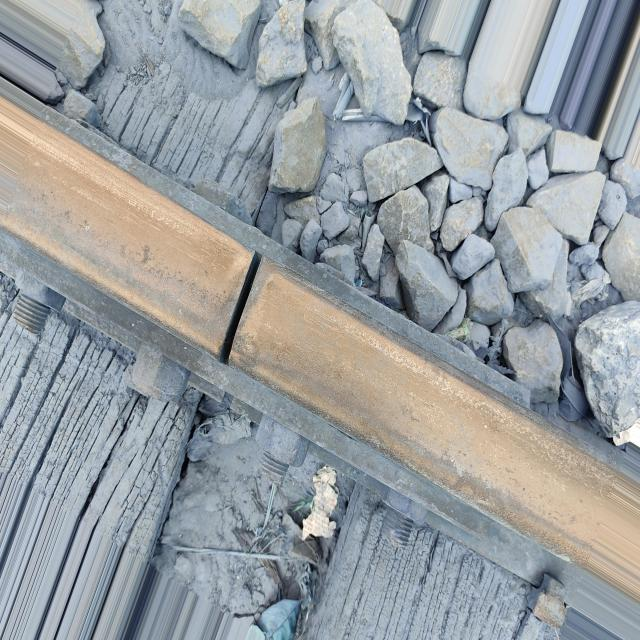Good Joint: (0, 83, 616, 592)
